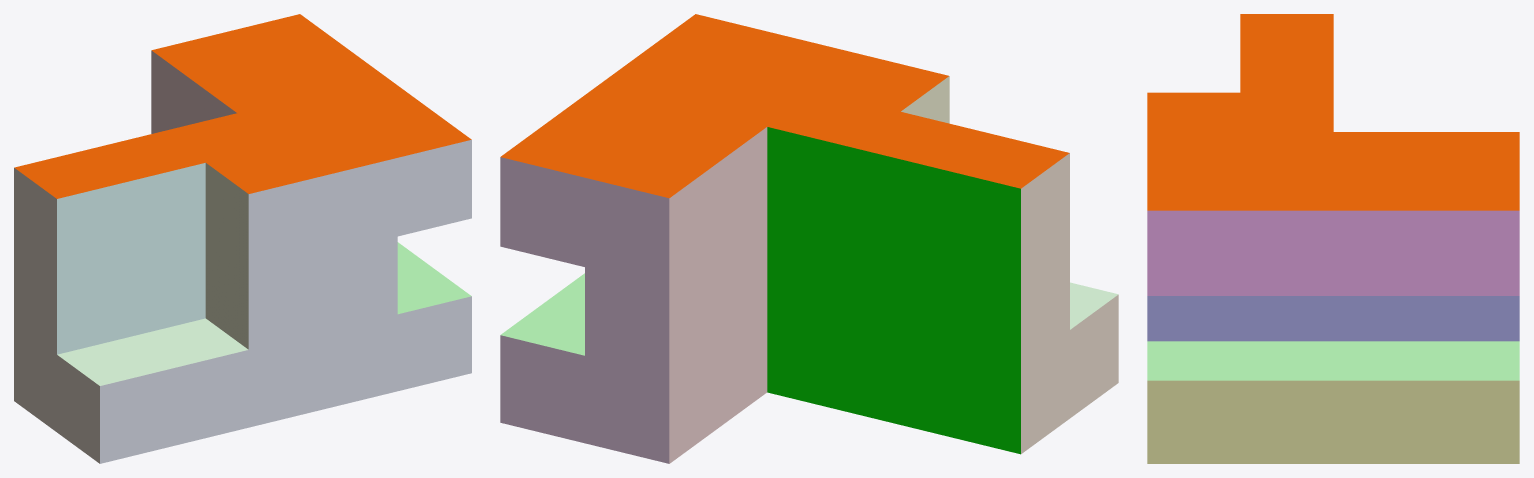
Rendered from last3d.gltf.
The picture shows the model from 3 angles, left to right: view 1: azimuth 30°, elevation 25°; view 2: azimuth 150°, elevation 25°; view 3: azimuth 270°, elevation 25°; orthographic projection. The views are drawn at different scales.
Visible parts, largest first — view 1: 3DGeom-29, 3DGeom-18, 3DGeom-22, 3DGeom-27, 3DGeom-17, 3DGeom-23, 3DGeom-21, 3DGeom-26; view 2: 3DGeom-28, 3DGeom-18, 3DGeom-25, 3DGeom-21, 3DGeom-27, 3DGeom-26, 3DGeom-17, 3DGeom-23; view 3: 3DGeom-18, 3DGeom-19, 3DGeom-30, 3DGeom-20, 3DGeom-26.
Boxes of the visible parts, left/top/right/bottom form: 3DGeom-29: left=100, top=140, right=471, bottom=463; 3DGeom-18: left=14, top=14, right=471, bottom=198; 3DGeom-22: left=57, top=163, right=205, bottom=354; 3DGeom-27: left=14, top=168, right=99, bottom=463; 3DGeom-17: left=205, top=163, right=248, bottom=349; 3DGeom-23: left=57, top=318, right=248, bottom=385; 3DGeom-21: left=151, top=50, right=236, bottom=133; 3DGeom-26: left=397, top=242, right=471, bottom=314; 3DGeom-28: left=767, top=127, right=1020, bottom=454; 3DGeom-18: left=501, top=14, right=1069, bottom=198; 3DGeom-25: left=500, top=157, right=669, bottom=463; 3DGeom-21: left=669, top=127, right=767, bottom=463; 3DGeom-27: left=1021, top=153, right=1118, bottom=453; 3DGeom-26: left=500, top=273, right=584, bottom=355; 3DGeom-17: left=901, top=76, right=949, bottom=123; 3DGeom-23: left=1070, top=282, right=1118, bottom=329; 3DGeom-18: left=1147, top=14, right=1519, bottom=210; 3DGeom-19: left=1147, top=210, right=1519, bottom=295; 3DGeom-30: left=1147, top=380, right=1519, bottom=463; 3DGeom-20: left=1147, top=296, right=1519, bottom=341; 3DGeom-26: left=1147, top=341, right=1519, bottom=380.
Bounding box in the file's own units: 0.5 × 0.3 × 0.4.
